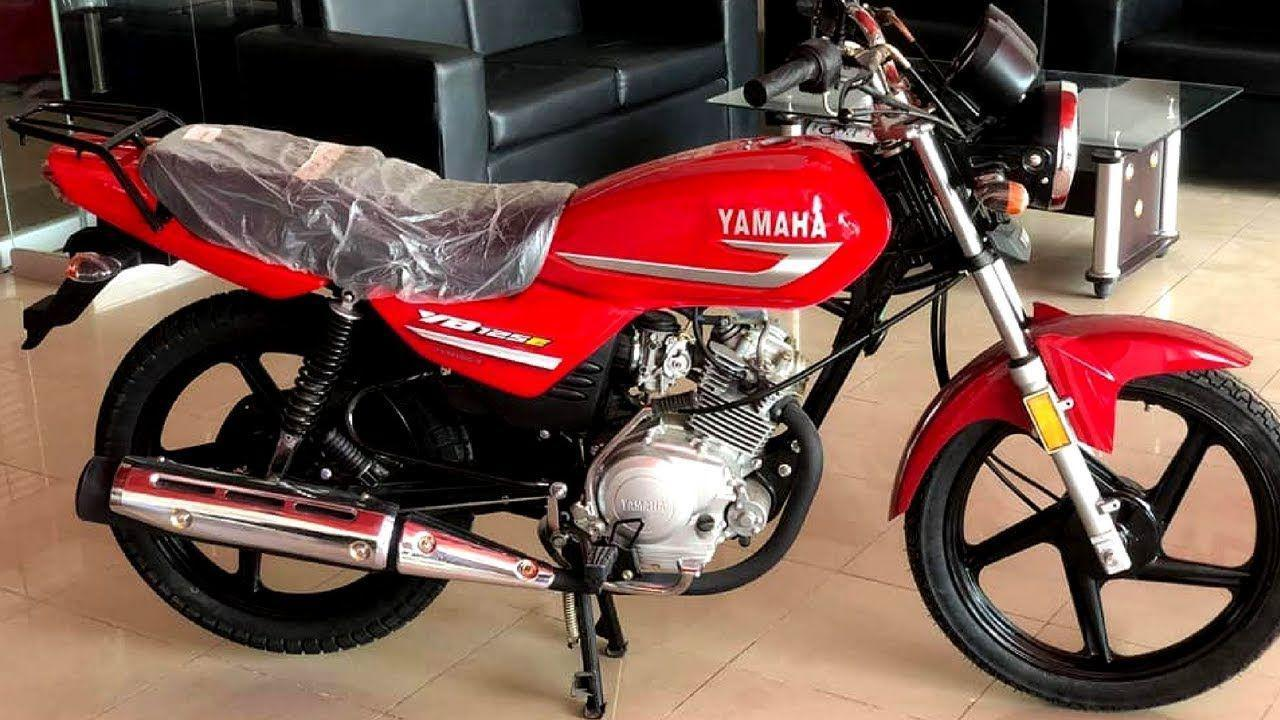motorcycle: (9, 4, 1280, 714)
